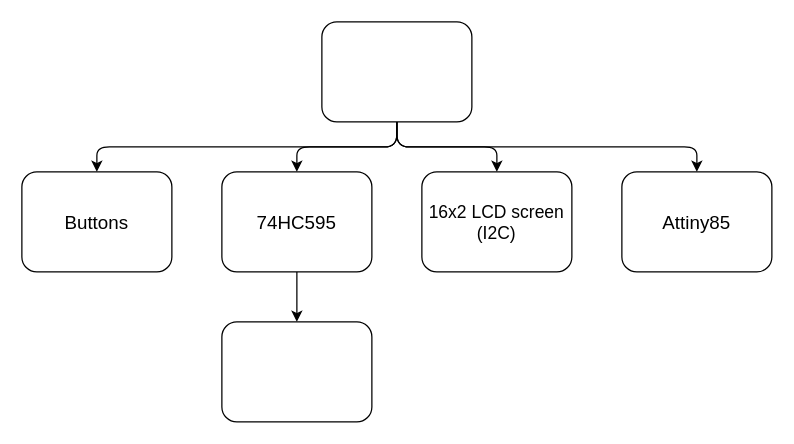
This 794x444 diagram has some shape labels left out. Each missing label, with the centre of its shape:
ESP32: point (396, 71)
LEDS: point (296, 371)
